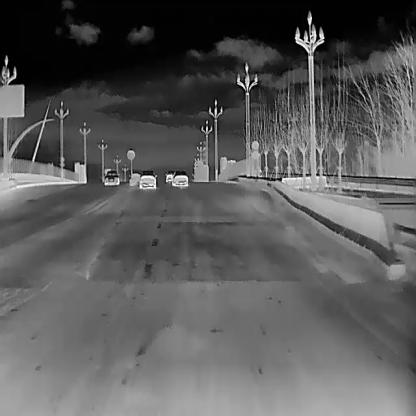car: (139, 168, 156, 190), (172, 170, 188, 187), (103, 169, 118, 184), (164, 169, 174, 183)
